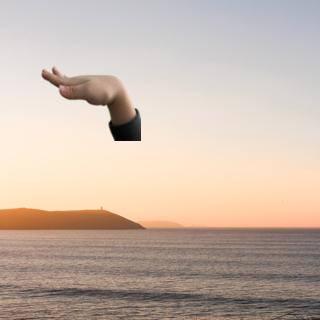Wait: (38, 62, 129, 111)
